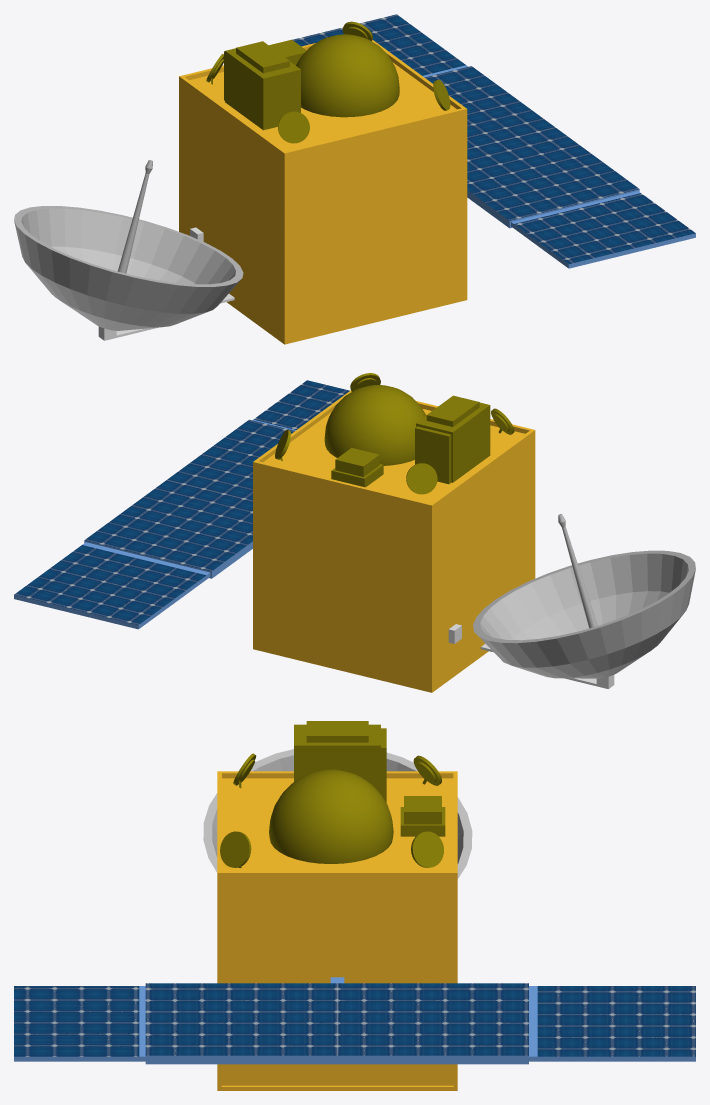
Rendered from Mangalyaan.glb.
3 views of the same model, one above another, from view 1: azimuth 30°, elevation 25°; view 2: azimuth 150°, elevation 25°; view 3: azimuth 270°, elevation 25° (orthographic). The views are drawn at different scales.
Parts seen in each view (by area): view 1: Cube, Cube.003, Circle.004, Sphere, Cube.001, Circle.003, Cube.004; view 2: Cube, Cube.003, Circle.004, Sphere, Cube.001, Cube.002, Circle.002, Cube.004; view 3: Cube.003, Cube, Sphere, Cube.001, Circle.004, Cube.002, Circle.001, Circle.
Boxes of the visible parts, left/top/right/bottom form: Cube: left=179, top=40, right=467, bottom=344; Cube.003: left=292, top=14, right=695, bottom=268; Circle.004: left=14, top=160, right=243, bottom=330; Sphere: left=296, top=34, right=399, bottom=117; Cube.001: left=224, top=41, right=300, bottom=130; Circle.003: left=278, top=111, right=309, bottom=143; Cube.004: left=98, top=227, right=234, bottom=340; Cube: left=253, top=390, right=535, bottom=692; Cube.003: left=14, top=380, right=349, bottom=629; Circle.004: left=473, top=514, right=695, bottom=678; Sphere: left=324, top=385, right=426, bottom=465; Cube.001: left=415, top=395, right=490, bottom=484; Cube.002: left=331, top=447, right=383, bottom=487; Circle.002: left=406, top=463, right=437, bottom=494; Cube.004: left=448, top=624, right=614, bottom=688; Cube.003: left=14, top=977, right=695, bottom=1064; Cube: left=217, top=771, right=457, bottom=1090; Sphere: left=269, top=769, right=393, bottom=863; Cube.001: left=294, top=721, right=386, bottom=802; Circle.004: left=203, top=749, right=472, bottom=878; Cube.002: left=400, top=796, right=445, bottom=836; Circle.001: left=411, top=831, right=443, bottom=867; Circle: left=220, top=831, right=251, bottom=867.
Size of the model in its own units: 5.74 by 2.56 by 5.67.
Materials: 7 (1 with a texture image).
